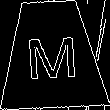M_N: (24, 28, 79, 81)
